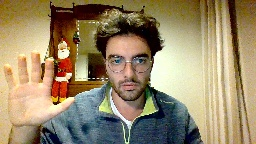Mano_aperta: (0, 49, 76, 128)
